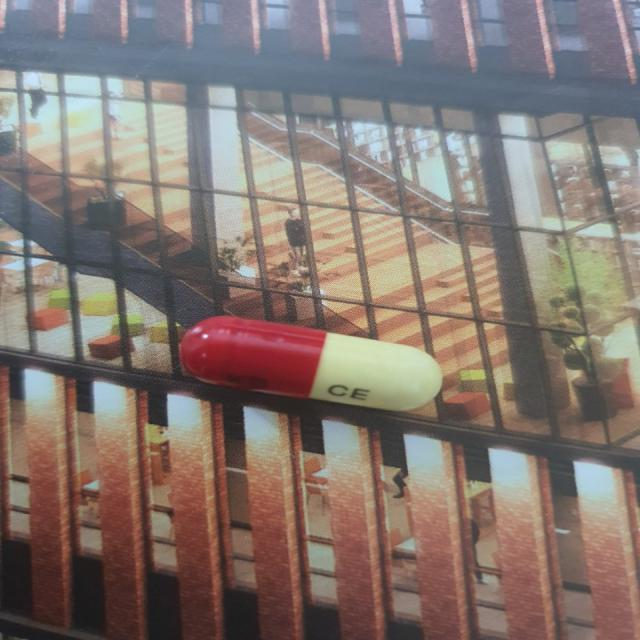pill: (168, 303, 451, 421)
